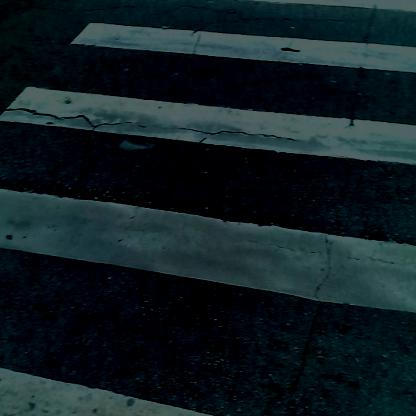crosswalk: (10, 28, 415, 410)
